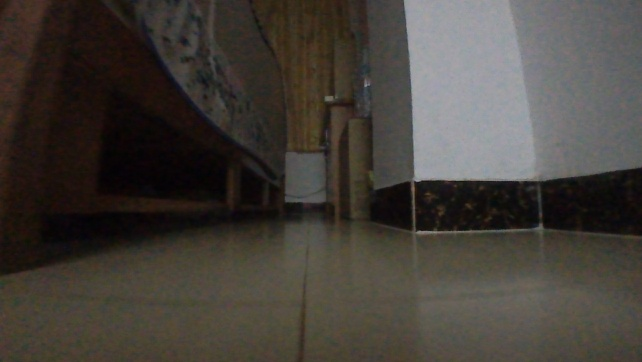bed1: (0, 0, 290, 266)
